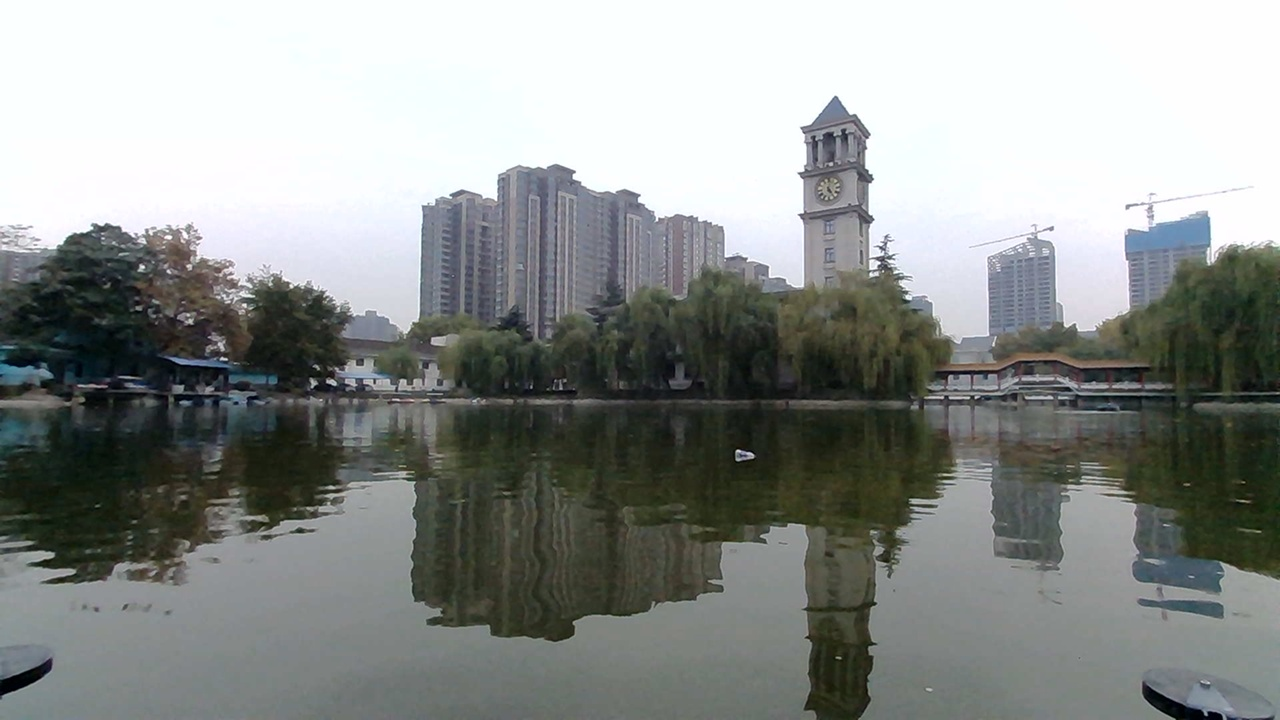bottle: (725, 439, 764, 469)
